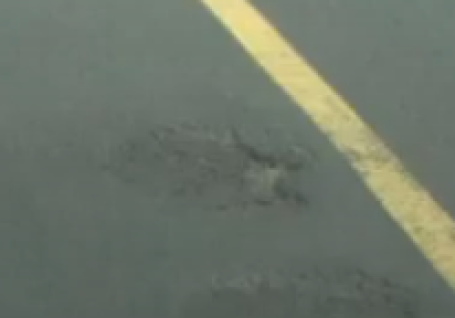Berlubang: (111, 107, 321, 219)
